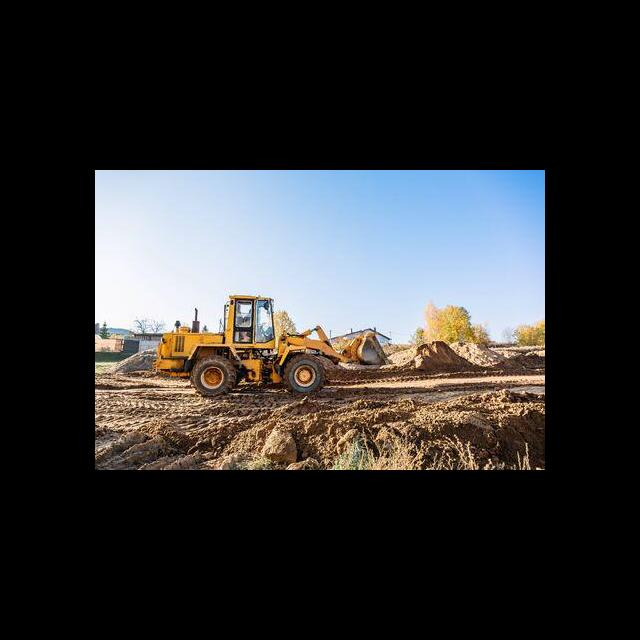wheel loader: (156, 290, 394, 398)
